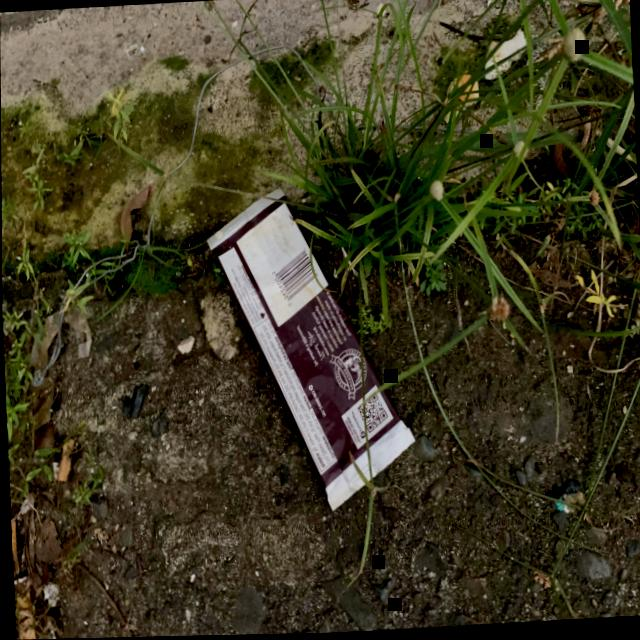Cigarette: (13, 576, 35, 640), (56, 439, 74, 480), (10, 517, 19, 575)
Other plastic: (206, 188, 414, 511), (554, 499, 567, 513)
Plastic film: (27, 303, 91, 432)
Scrap metal: (29, 44, 331, 386)
